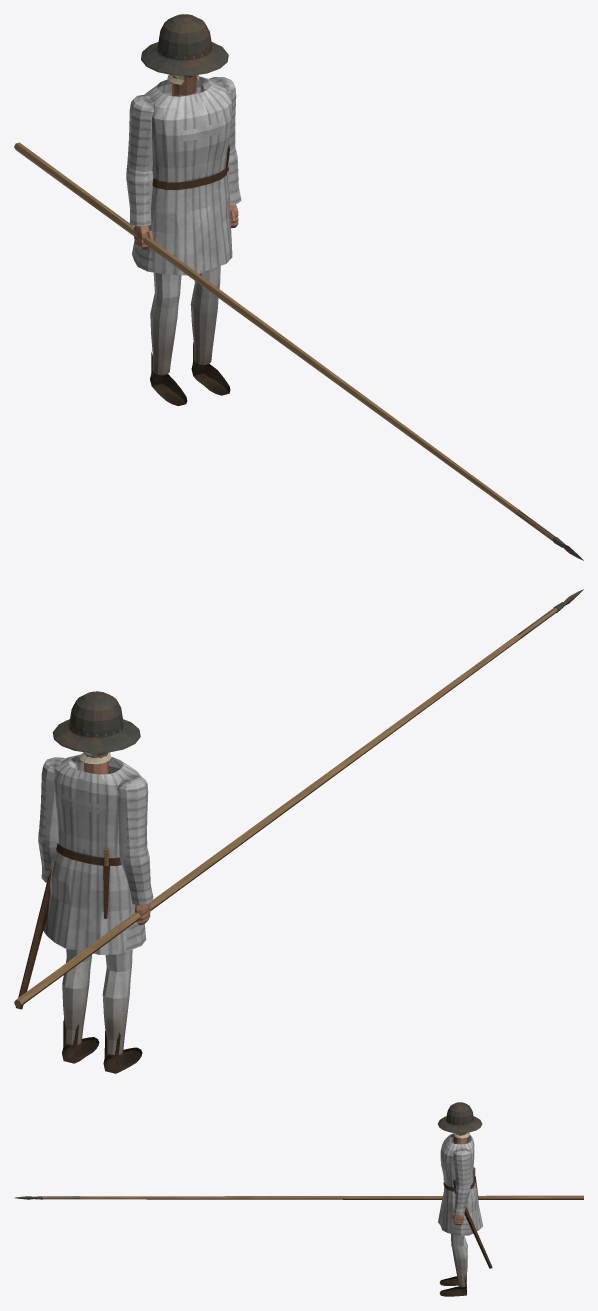
Rendered from pikemen.glb.
The picture shows the model from 3 angles, top to bottom: view 1: azimuth 30°, elevation 25°; view 2: azimuth 150°, elevation 25°; view 3: azimuth 270°, elevation 25°; orthographic projection. The views are drawn at different scales.
Parts seen in each view (by area): view 1: pikemen_LOD0; view 2: pikemen_LOD0; view 3: pikemen_LOD0.
Part boxes in pixels (x1,y1,x2,y2): pikemen_LOD0: (14,14,583,560); pikemen_LOD0: (14,589,583,1073); pikemen_LOD0: (14,1102,583,1296).
Size of what is drawn, in the model's own units: 0.5577 by 1.8 by 5.
Materials: 1 (1 with a texture image).
